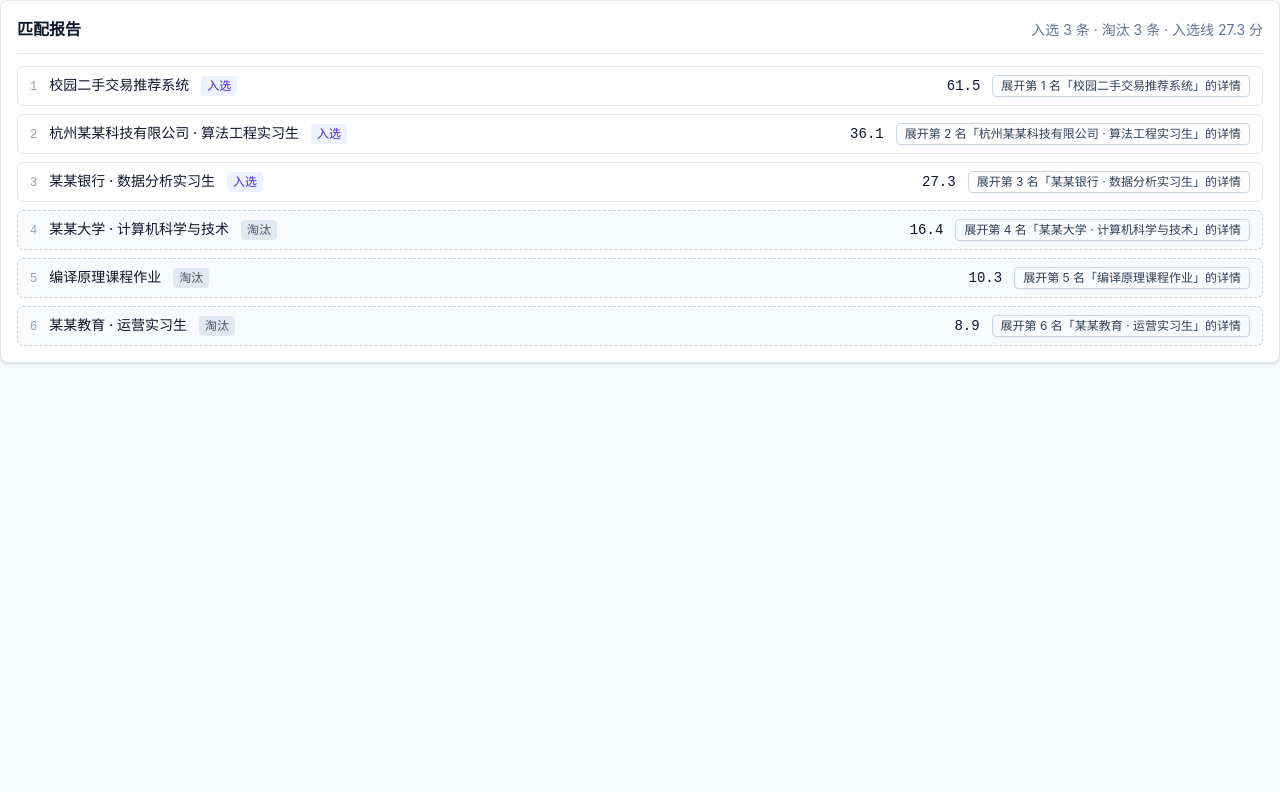
Scenario: 逐条可展开查看分数构成（T2.3 第一条勾） › 点开一条只展开那一条
Click the 1st button.
click(1121, 86)  # box [992, 75, 1250, 97]
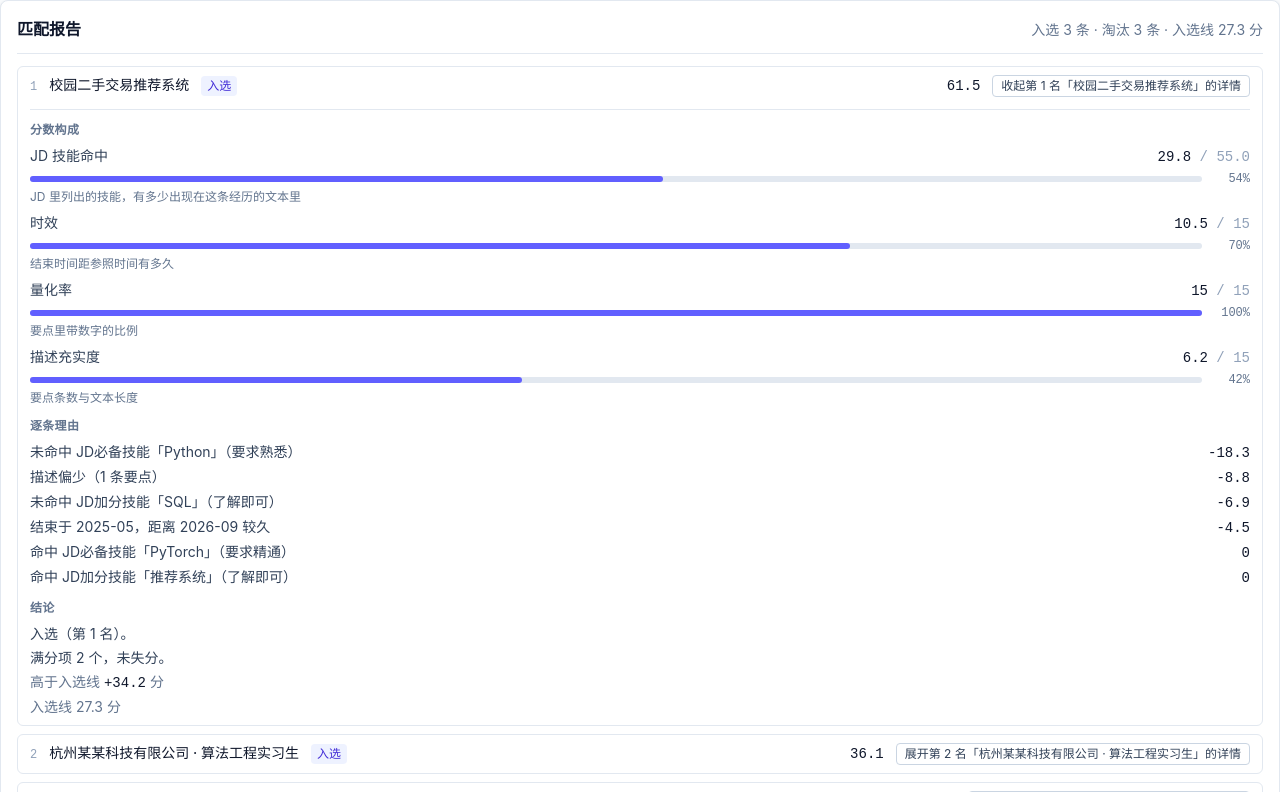
Check: the 1st button is expanded, box [992, 75, 1250, 97]
